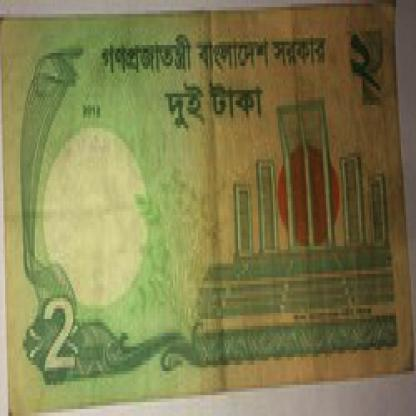two taka: (35, 298, 110, 399), (343, 24, 399, 135)
